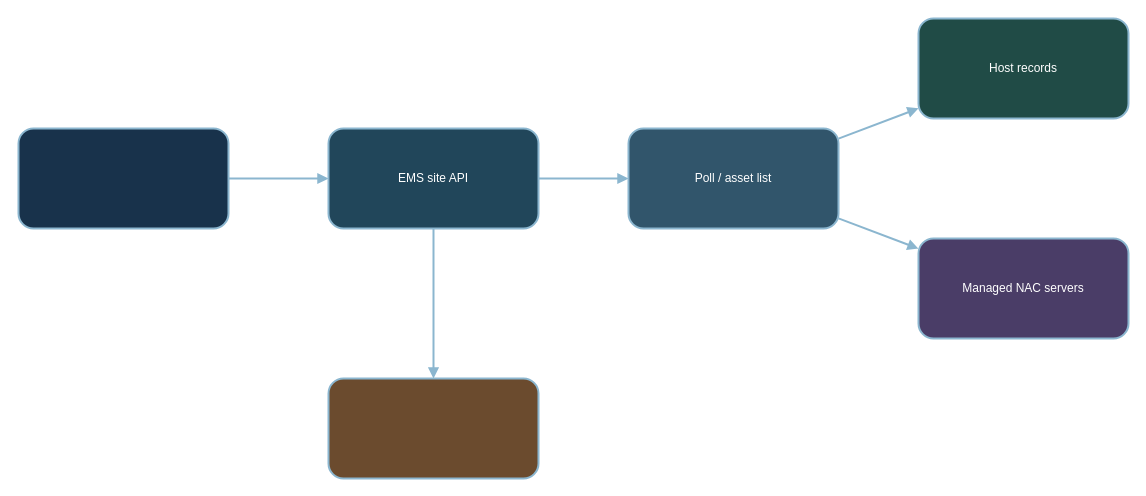
This 1146x496 diagram has some shape labels left out. The centre of each missing label's shape, as x and y in pixels:
FortiNAC Manager: pixel 123 178
Global account rejected: pixel 433 428
